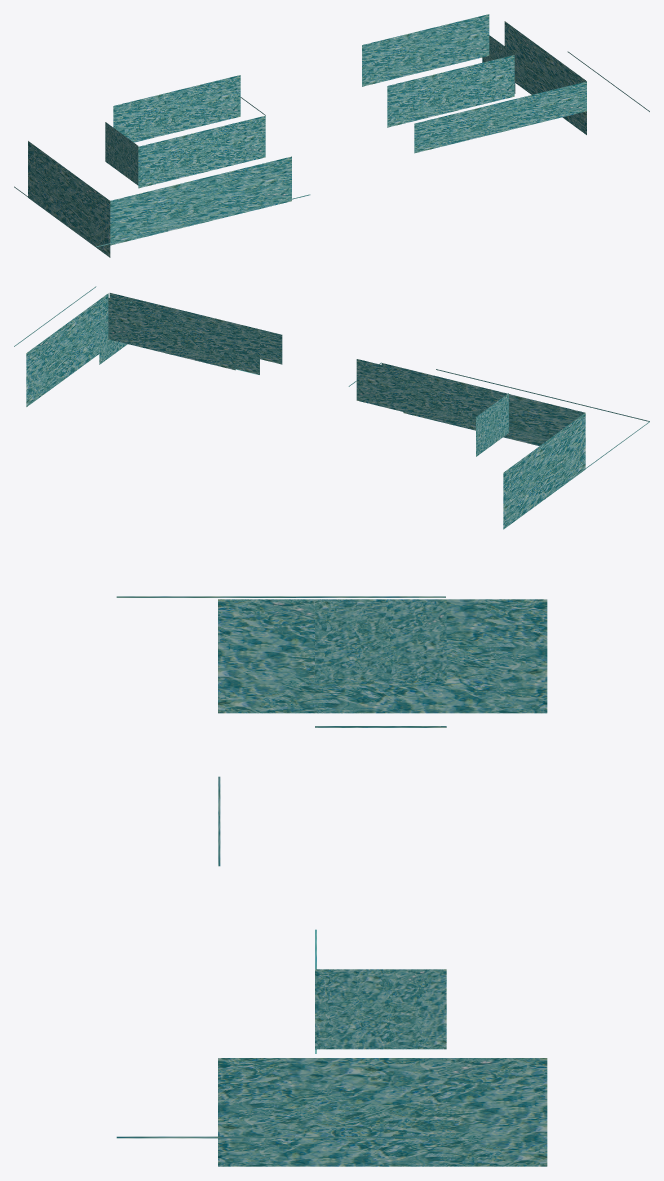
The model's file is AguaEstatica.obj.
3 views of the same model, one above another, from view 1: azimuth 30°, elevation 25°; view 2: azimuth 150°, elevation 25°; view 3: azimuth 270°, elevation 25° (orthographic). The views are drawn at different scales.
Parts seen in each view (by area): view 1: polySurface19 AguaEstatica; view 2: polySurface19 AguaEstatica; view 3: polySurface19 AguaEstatica.
Boxes of the visible parts, left/top/right/bottom form: polySurface19 AguaEstatica: left=14, top=14, right=649, bottom=257; polySurface19 AguaEstatica: left=14, top=286, right=649, bottom=529; polySurface19 AguaEstatica: left=116, top=596, right=547, bottom=1166.
Bounding box in the file's own units: 19416 × 3469 × 6535.
Materials: 2 (2 with a texture image).
